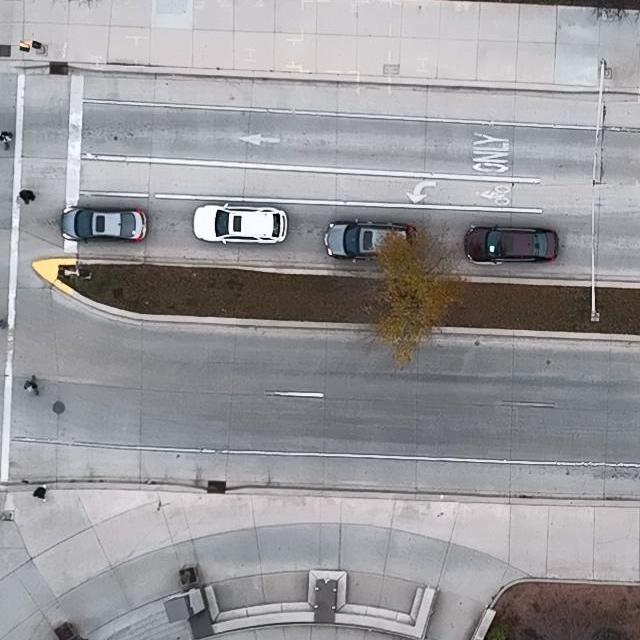car: (462, 223, 560, 265), (325, 220, 417, 264), (193, 203, 287, 244), (60, 207, 147, 241)
